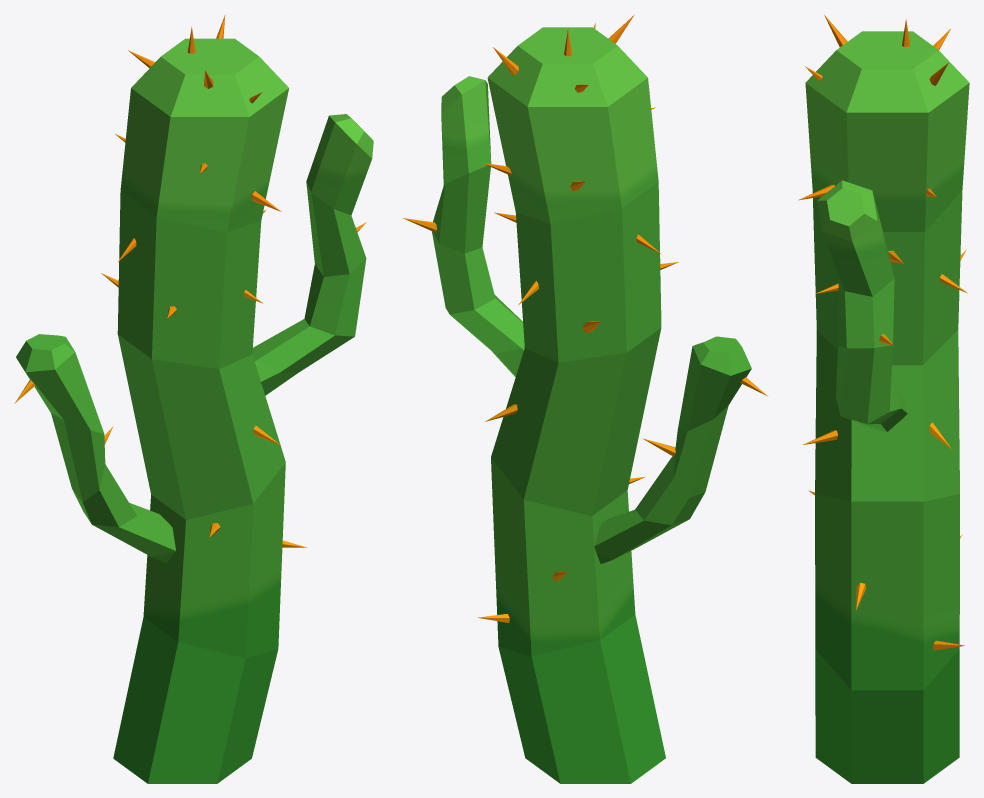
The model's file is cactus3.fbx.
3 views of the same model, side by side, from view 1: azimuth 30°, elevation 25°; view 2: azimuth 150°, elevation 25°; view 3: azimuth 270°, elevation 25° (orthographic). The views are drawn at different scales.
Visible parts, largest first — view 1: Cylinder, Cone; view 2: Cylinder, Cone; view 3: Cylinder, Cone.
Boxes of the visible parts, box(x1,y1,x2,y2) form: Cylinder: box(16, 38, 373, 783); Cone: box(14, 14, 366, 547); Cylinder: box(432, 27, 751, 783); Cone: box(403, 14, 767, 622); Cylinder: box(805, 31, 969, 783); Cone: box(798, 14, 967, 650).
Bounding box in the file's own units: 559 × 1080 × 225.
